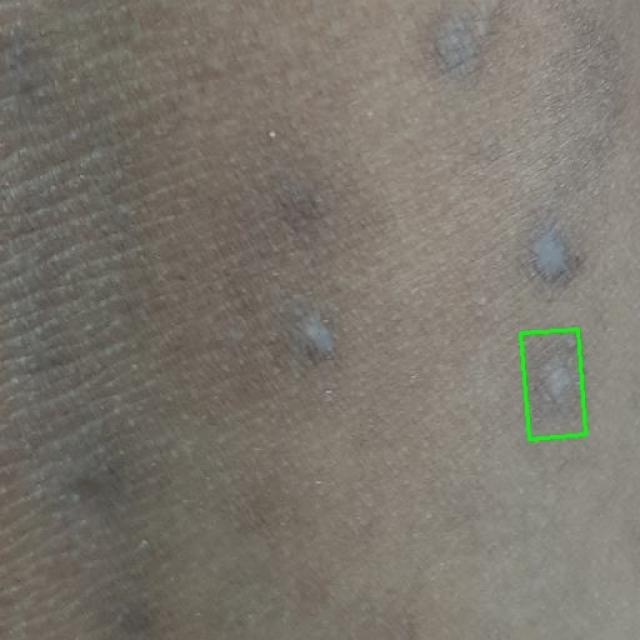Scabies: (521, 329, 586, 439)
